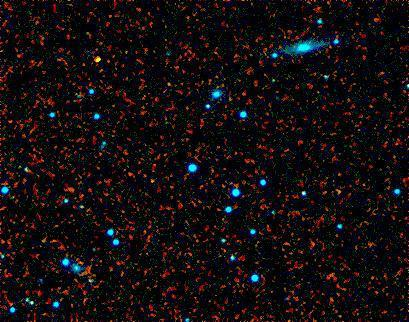star: (83, 47, 113, 77)
